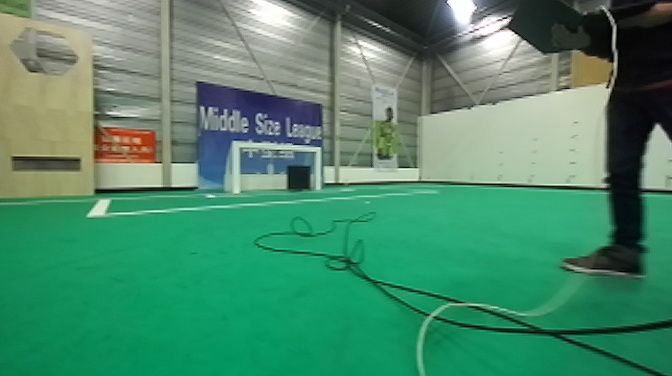goalpost: (231, 140, 244, 195), (313, 146, 324, 193)
human: (528, 6, 671, 295)
